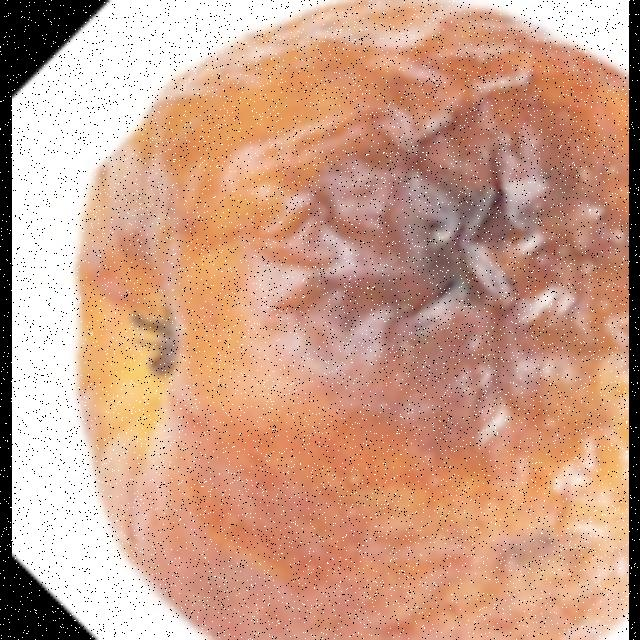Apel Tidak Segar: (51, 0, 629, 640)
